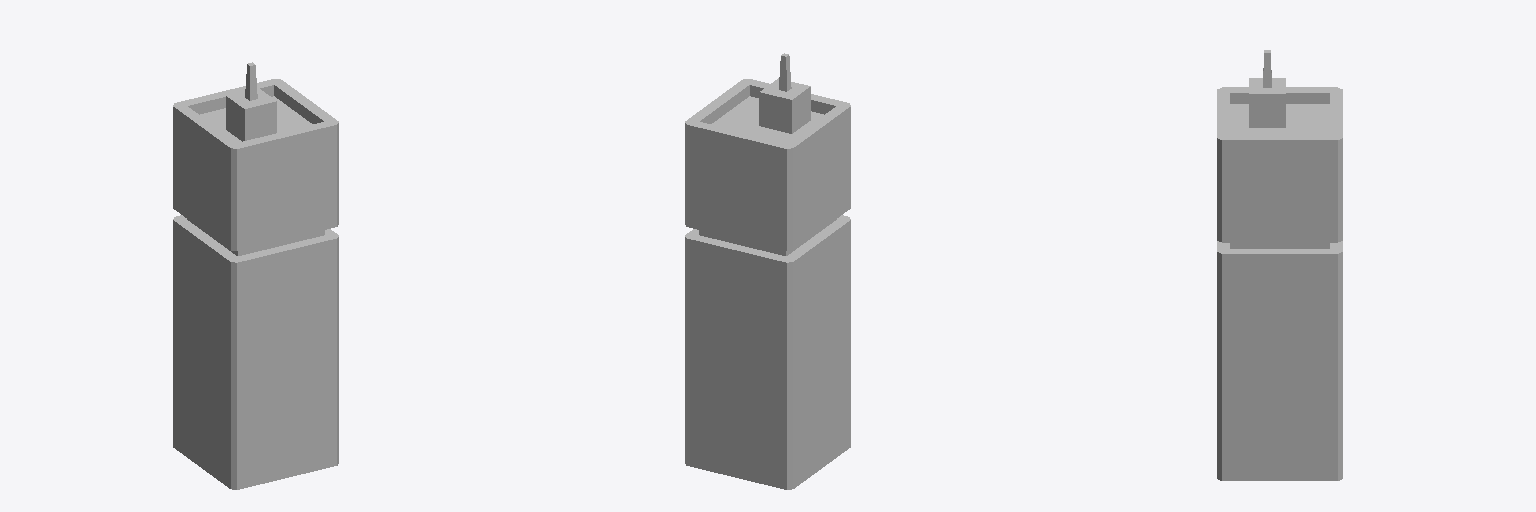
Rendered from low-detail-building-d.obj.
3 renders of one model, left to right at view 1: azimuth 30°, elevation 25°; view 2: azimuth 150°, elevation 25°; view 3: azimuth 270°, elevation 25°, orthographic.
Visible parts, largest first — view 1: low-detail-building-d; view 2: low-detail-building-d; view 3: low-detail-building-d.
Part boxes in pixels (left/top/right/bottom): low-detail-building-d: left=173, top=62, right=338, bottom=489; low-detail-building-d: left=685, top=53, right=850, bottom=489; low-detail-building-d: left=1217, top=50, right=1342, bottom=480.
Bounding box in the file's own units: 0.5 × 1.75 × 0.5.